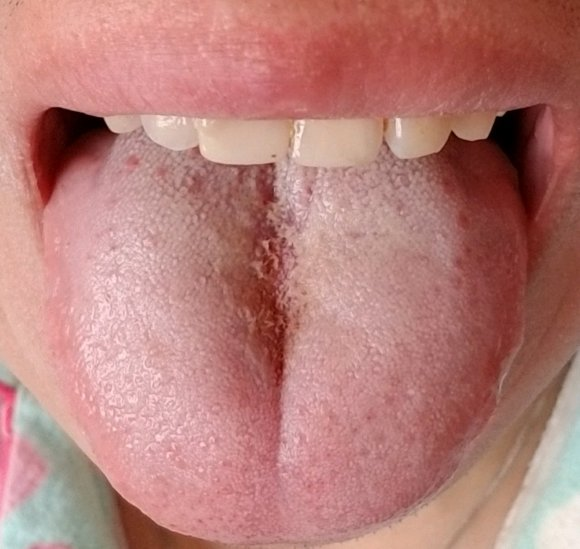baitaishe: (44, 109, 530, 549)
hongshe: (44, 109, 530, 549)
